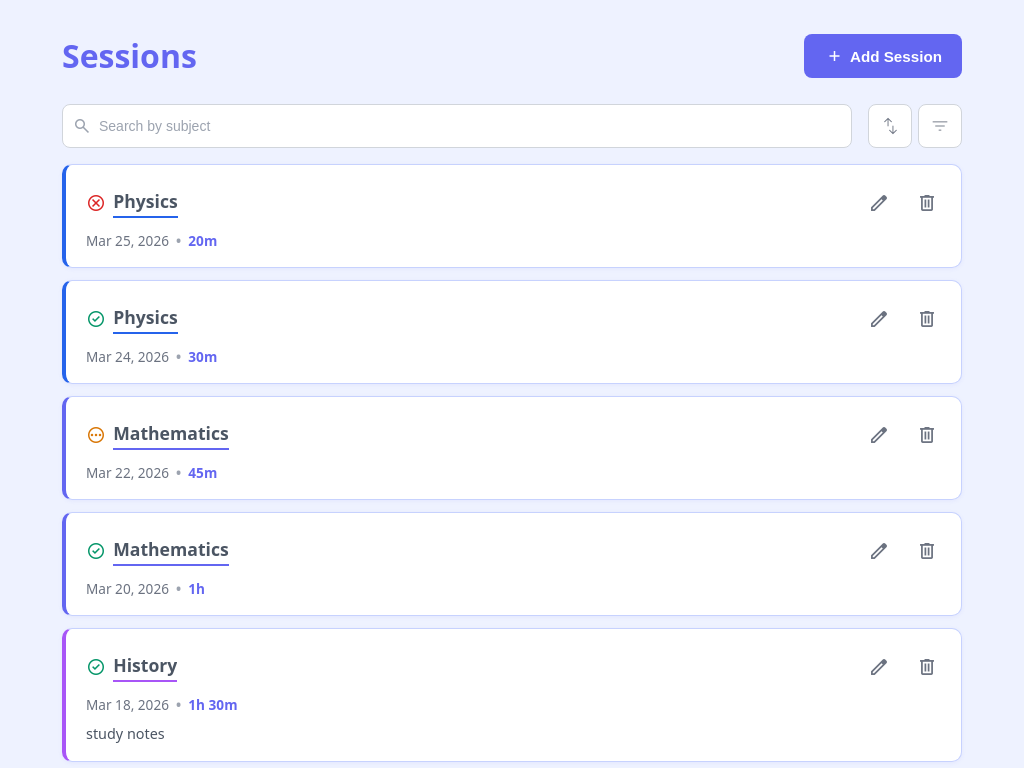
Test case: Sessions – Toolbar (search, sort, filter) › filter dropdown › shows filter controls when filter button is clicked
The width and height of the screenshot is (1024, 768).
Click the button named "filter sessions": click(940, 126) [918,104,962,148]
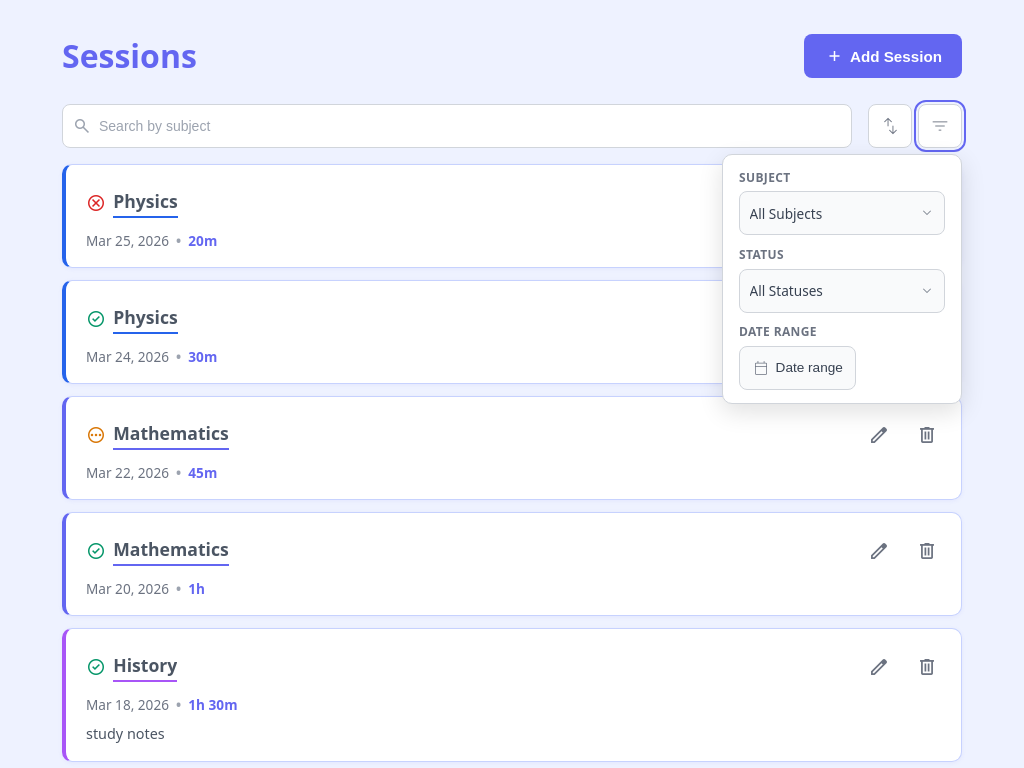
Expected: the button labelled "All Subjects" is shown, [739,191,945,235]
Expected: the button labelled "All Statuses" is shown, [739,269,945,313]
Expected: the button with aria-label "select date range" is shown, [739,346,856,390]
